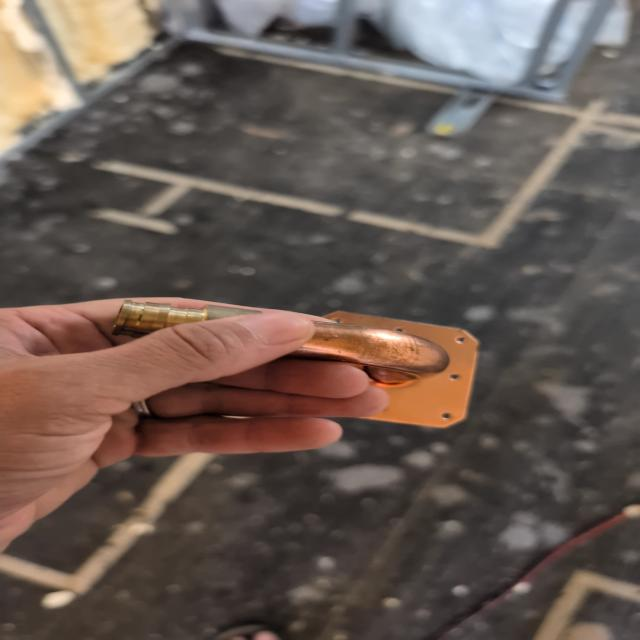wall_flange: (110, 291, 488, 434)
